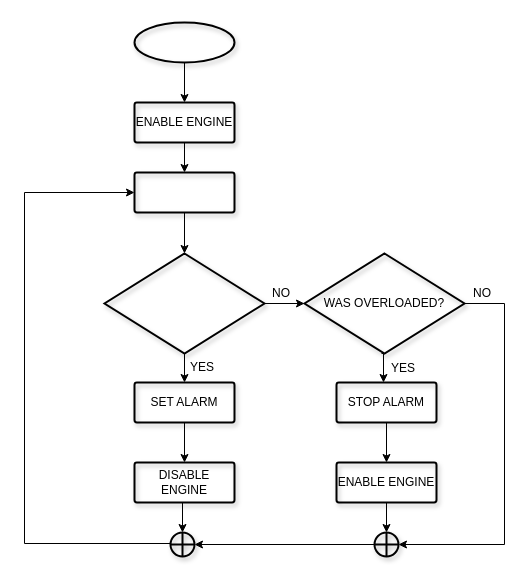
The diagram is 530 pixels wide and 581 high, and some of its shapes have lost their labels. Each missing label, with the centre of its shape:
"IS OVERLOADED?" goes at [185,304].
"READ LOAD LEVEL" goes at [185,193].
"START" goes at [185,43].
